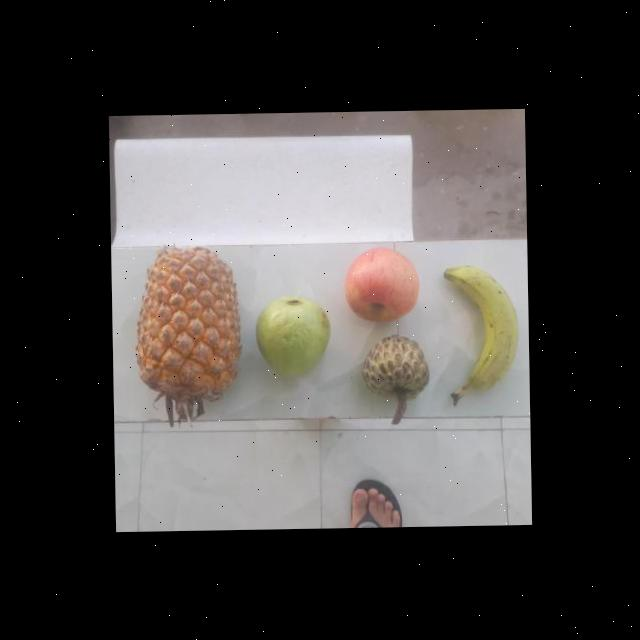Sakya fruit: (358, 334, 430, 414)
apple: (339, 248, 422, 324)
banana: (440, 264, 516, 398)
guava: (252, 294, 330, 378)
pineapple: (133, 248, 237, 402)
